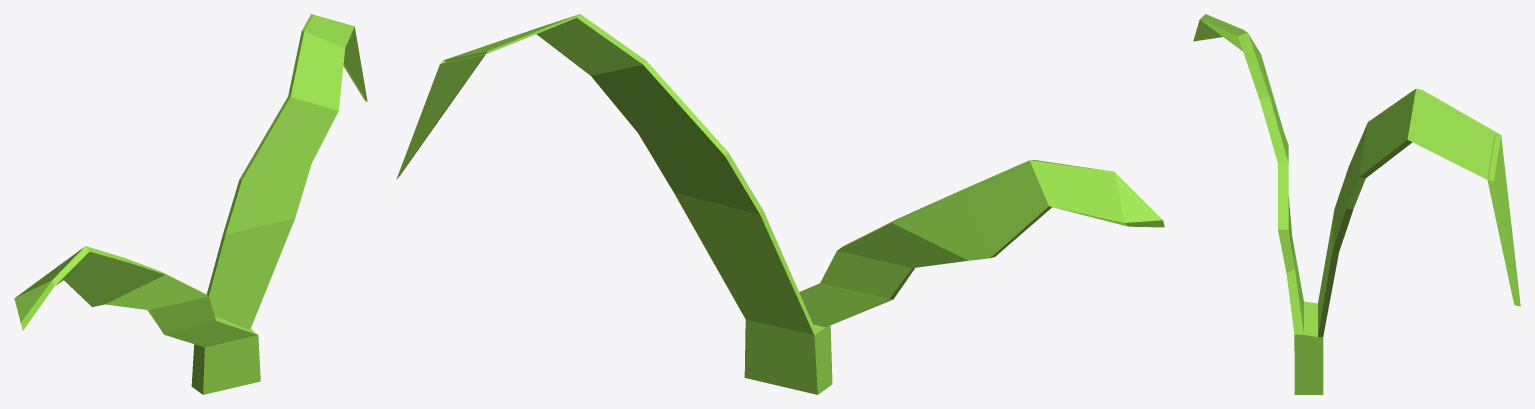
The model's file is arroz inicio.fbx.
3 views of the same model, side by side, from view 1: azimuth 30°, elevation 25°; view 2: azimuth 150°, elevation 25°; view 3: azimuth 270°, elevation 25° (orthographic). The views are drawn at different scales.
Visible parts, largest first — view 1: Cube; view 2: Cube; view 3: Cube.
Boxes of the visible parts, <box> form: Cube: <box>14,14,367,394</box>; Cube: <box>396,14,1164,394</box>; Cube: <box>1193,14,1520,394</box>.
Bounding box in the file's own units: 746 × 438 × 359.
